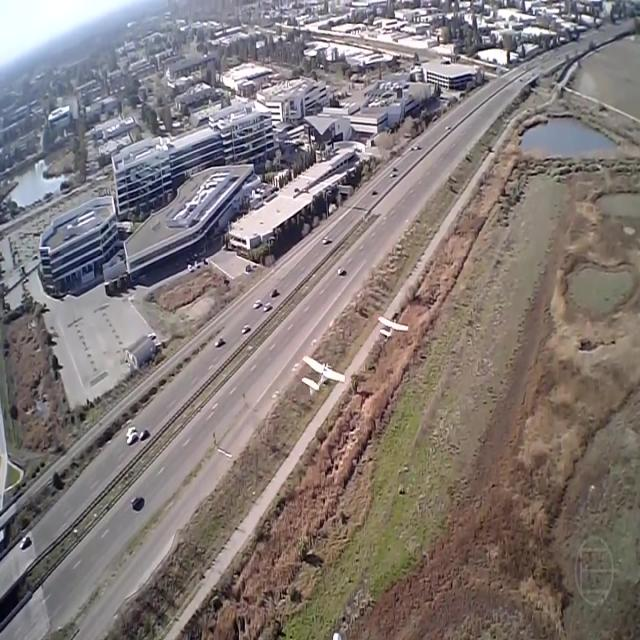iha: (302, 354, 347, 397), (370, 308, 402, 333)
